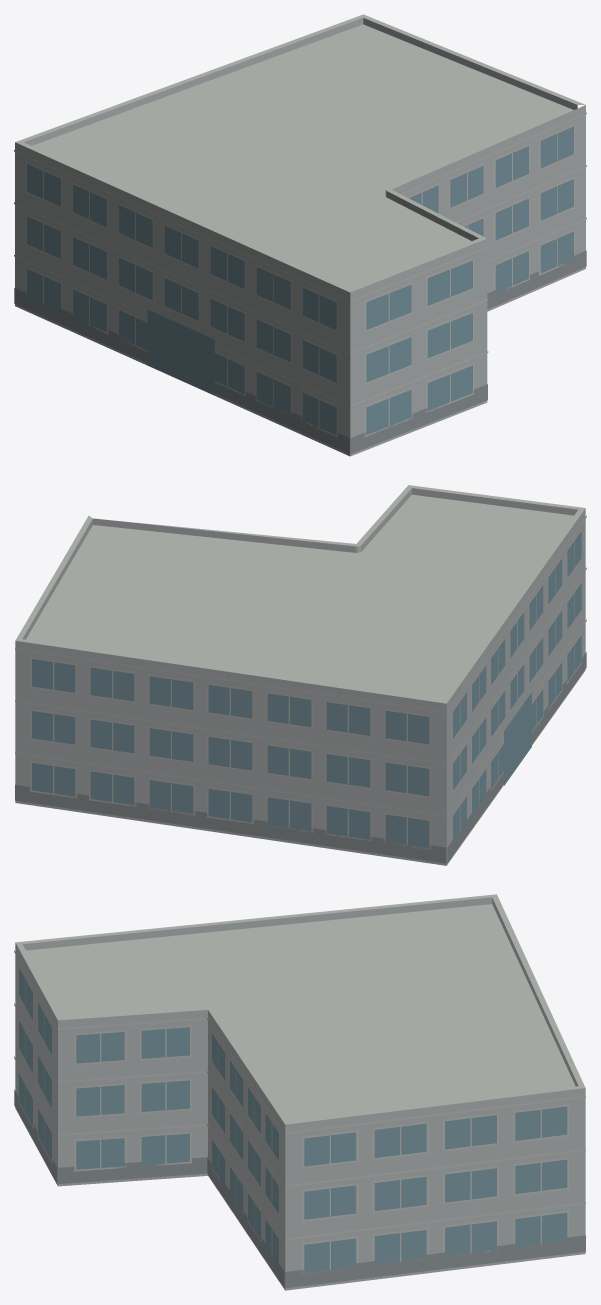
Rendered from public-a98c36a9-82b3-4fbd-90e1-a6df5ef9a3e8.glb.
3 views of the same model, one above another, from view 1: azimuth 30°, elevation 25°; view 2: azimuth 150°, elevation 25°; view 3: azimuth 270°, elevation 25° (orthographic). The views are drawn at different scales.
Parts seen in each view (by area): view 1: public-a98c36a9-82b3-4fbd-90e1-a6df5ef9a3e8; view 2: public-a98c36a9-82b3-4fbd-90e1-a6df5ef9a3e8; view 3: public-a98c36a9-82b3-4fbd-90e1-a6df5ef9a3e8.
Part boxes in pixels (<box>): public-a98c36a9-82b3-4fbd-90e1-a6df5ef9a3e8: <box>14,14,586,456</box>; public-a98c36a9-82b3-4fbd-90e1-a6df5ef9a3e8: <box>15,485,586,865</box>; public-a98c36a9-82b3-4fbd-90e1-a6df5ef9a3e8: <box>14,894,585,1290</box>.
Size of the model in its own units: 27.37 by 9.15 by 28.62.
